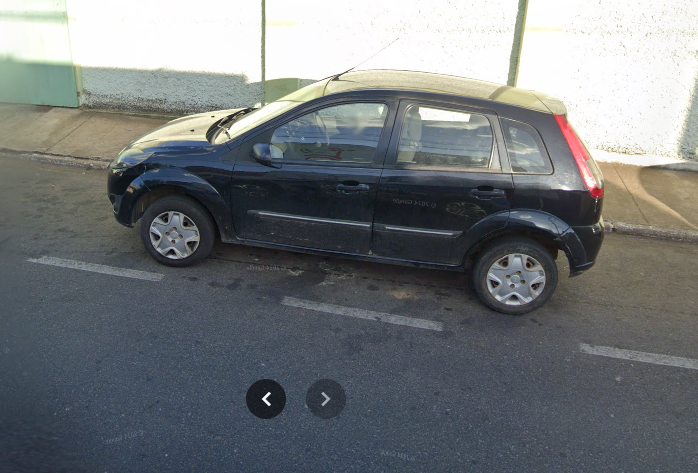car: (105, 32, 611, 329)
